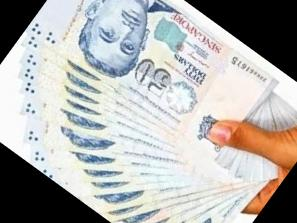50SingaporeDollar: (27, 0, 271, 160)
